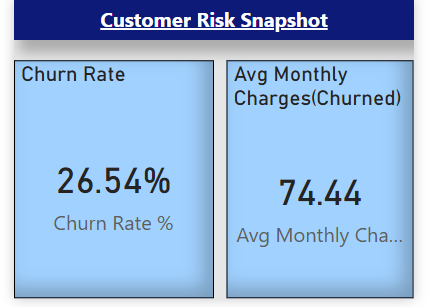

The page's visual inventory and layout, read from the dashboard file:
{"tool":"powerbi","page":{"name":"Tooltip","canvas":[320,240],"ordinal":2},"visuals":[{"type":"card","title":"Churn Rate","fields":{"Values":["WA_Fn-UseC_-Telco-Customer-Churn.Churn Rate %"]},"box":[0,49,160,191],"z":0},{"type":"card","title":"Avg Monthly Charges(Churned)","fields":{"Values":["WA_Fn-UseC_-Telco-Customer-Churn.Avg Monthly Charges(Churned)"]},"box":[170,49,150,191],"z":1},{"type":"textbox","box":[0,0,320,33],"z":2}]}

Visuals, with their boxes in screenshot pixels (x1, y1, x2, y2):
"Churn Rate" card: (11,58,213,299)
"Avg Monthly Charges(Churned)" card: (226,58,415,299)
textbox: (11,0,415,38)
